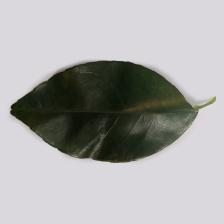healthy: (17, 63, 185, 171)
